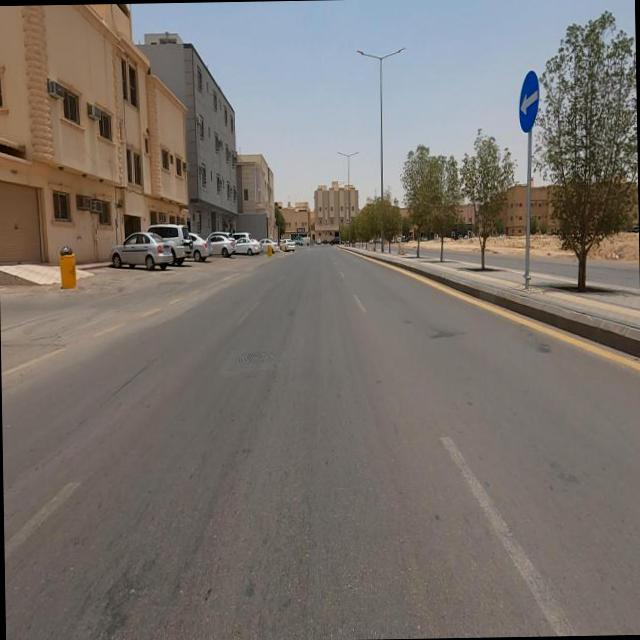debris: (42, 209, 84, 286), (588, 232, 639, 282)
